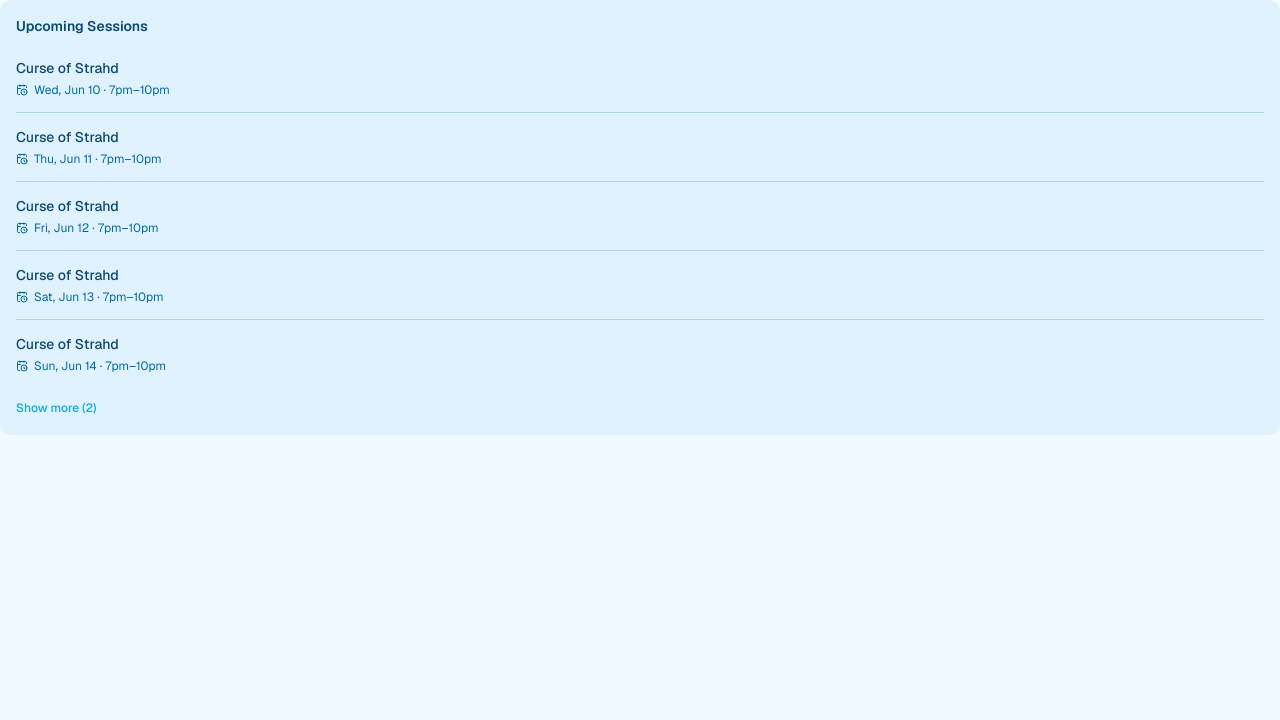
it: UpcomingSessionsPanel › soft-caps at 5 rows with a working show more / show less toggle
Expected: the number of links with test id "upcoming-session" is 5, [16, 59, 170, 98]; [16, 128, 162, 167]; [16, 197, 159, 236]; [16, 266, 164, 305]; [16, 335, 166, 374]
Click the button "Show more (2)": point(56, 408) [16, 400, 96, 416]
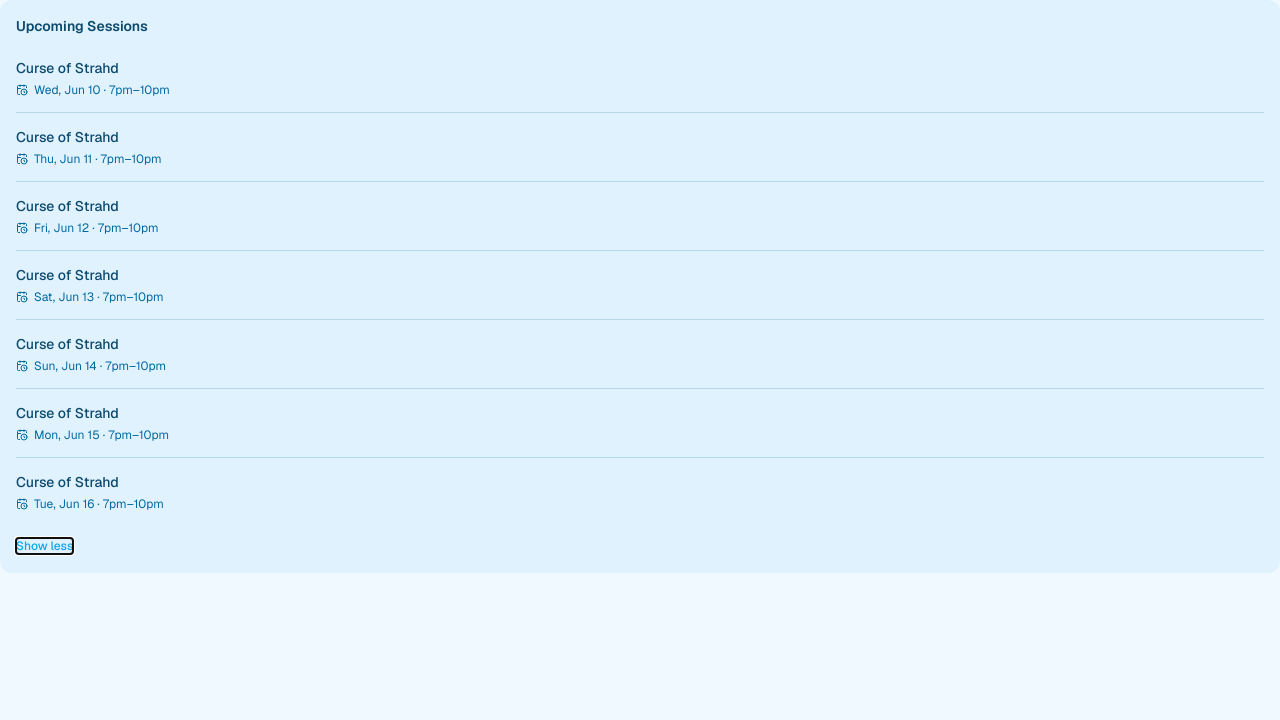
Expected: the number of links with test id "upcoming-session" is 7
Click the button "Show less": point(45, 546) [16, 538, 73, 554]
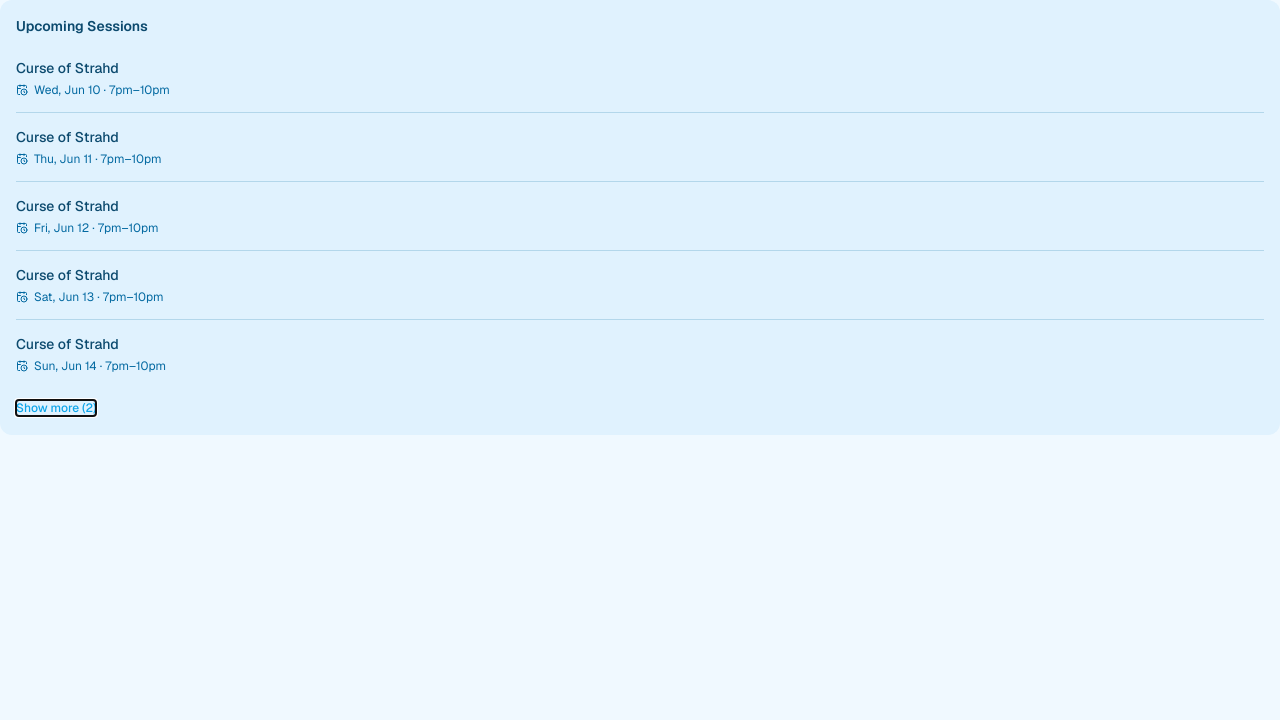
Expected: the number of links with test id "upcoming-session" is 5, [16, 59, 170, 98]; [16, 128, 162, 167]; [16, 197, 159, 236]; [16, 266, 164, 305]; [16, 335, 166, 374]
